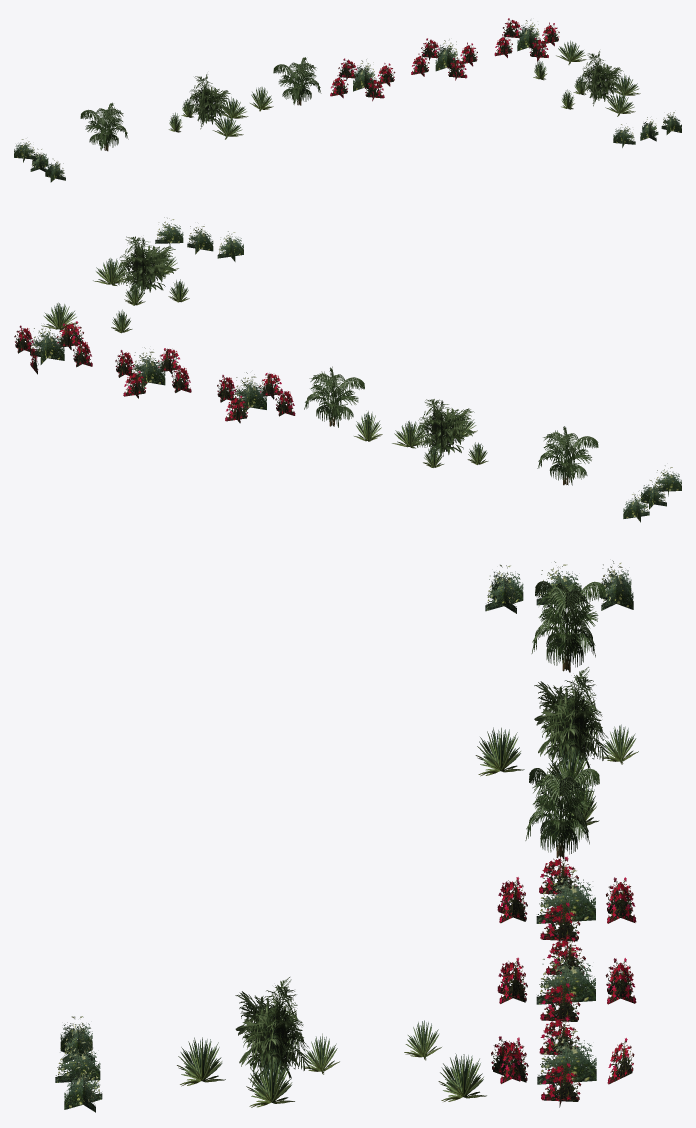
Rendered from plantbeds1_lan02.obj.
3 renders of one model, top to bottom at view 1: azimuth 30°, elevation 25°; view 2: azimuth 150°, elevation 25°; view 3: azimuth 270°, elevation 25°, orthographic. The views are drawn at different scales.
Parts seen in each view (by area): view 1: plantbeds1_LAn02; view 2: plantbeds1_LAn02; view 3: plantbeds1_LAn02.
Boxes of the visible parts, bbox=[...] form: plantbeds1_LAn02: bbox=[14, 18, 681, 182]; plantbeds1_LAn02: bbox=[14, 217, 681, 522]; plantbeds1_LAn02: bbox=[55, 560, 638, 1112].
Bounding box in the file's own units: 47.18 × 4.13 × 22.38.
